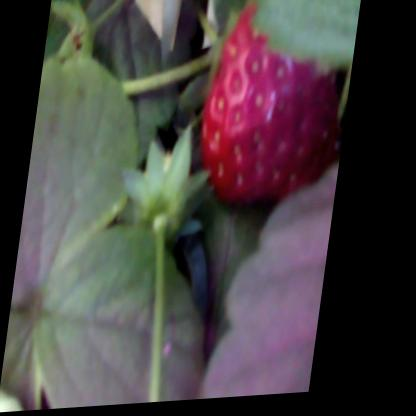ripe: (192, 0, 359, 200)
